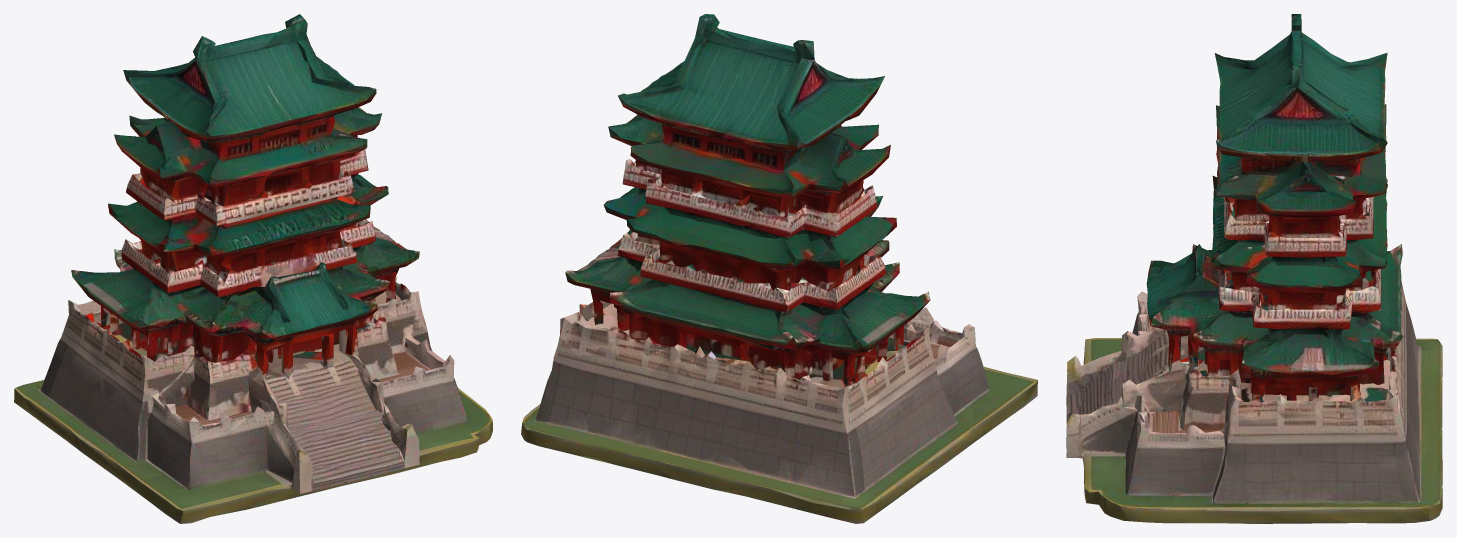
File: pavilion-prince-teng.glb
The picture shows the model from 3 angles, left to right: view 1: azimuth 30°, elevation 25°; view 2: azimuth 150°, elevation 25°; view 3: azimuth 270°, elevation 25°; orthographic projection. The views are drawn at different scales.
Parts seen in each view (by area): view 1: logan-textured.obj; view 2: logan-textured.obj; view 3: logan-textured.obj.
Part boxes in pixels (x1,y1,x2,y2): logan-textured.obj: (14,14,492,523); logan-textured.obj: (521,14,1037,523); logan-textured.obj: (1066,14,1442,523).
Size of the model in its own units: 0.9178 by 1 by 0.849.
1 material, 1 textured.
